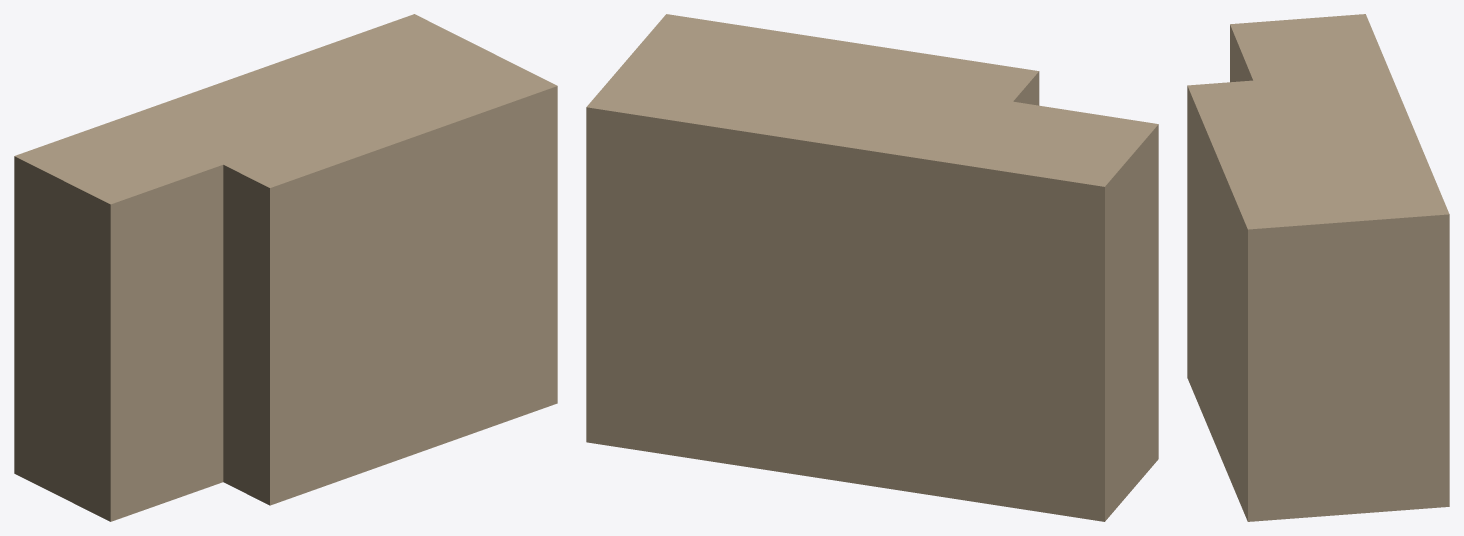
File: bld_101562490.dae
The picture shows the model from 3 angles, left to right: view 1: azimuth 30°, elevation 25°; view 2: azimuth 150°, elevation 25°; view 3: azimuth 270°, elevation 25°; orthographic projection. The views are drawn at different scales.
Parts seen in each view (by area): view 1: bld_101562490; view 2: bld_101562490; view 3: bld_101562490.
Part boxes in pixels (x1,y1,x2,y2): bld_101562490: (14,14,557,521); bld_101562490: (586,14,1158,521); bld_101562490: (1187,14,1449,521).
Bounding box in the file's own units: 12.64 × 6.5 × 8.
